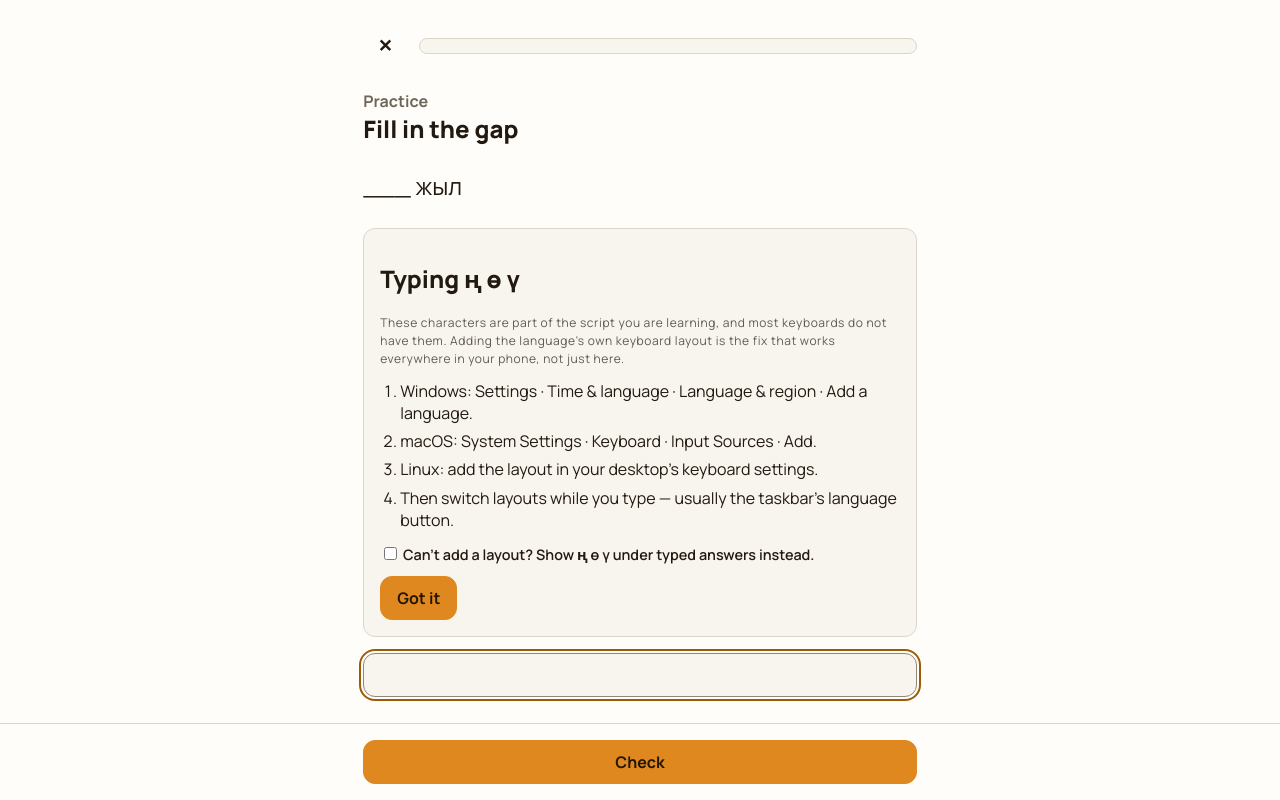
the keyboard setup card › offers the key row as the fallback, and turning it on shows the keys
This screenshot has width=1280, height=800.
Click the checkbox.
click(391, 553)  # box [384,547,397,560]
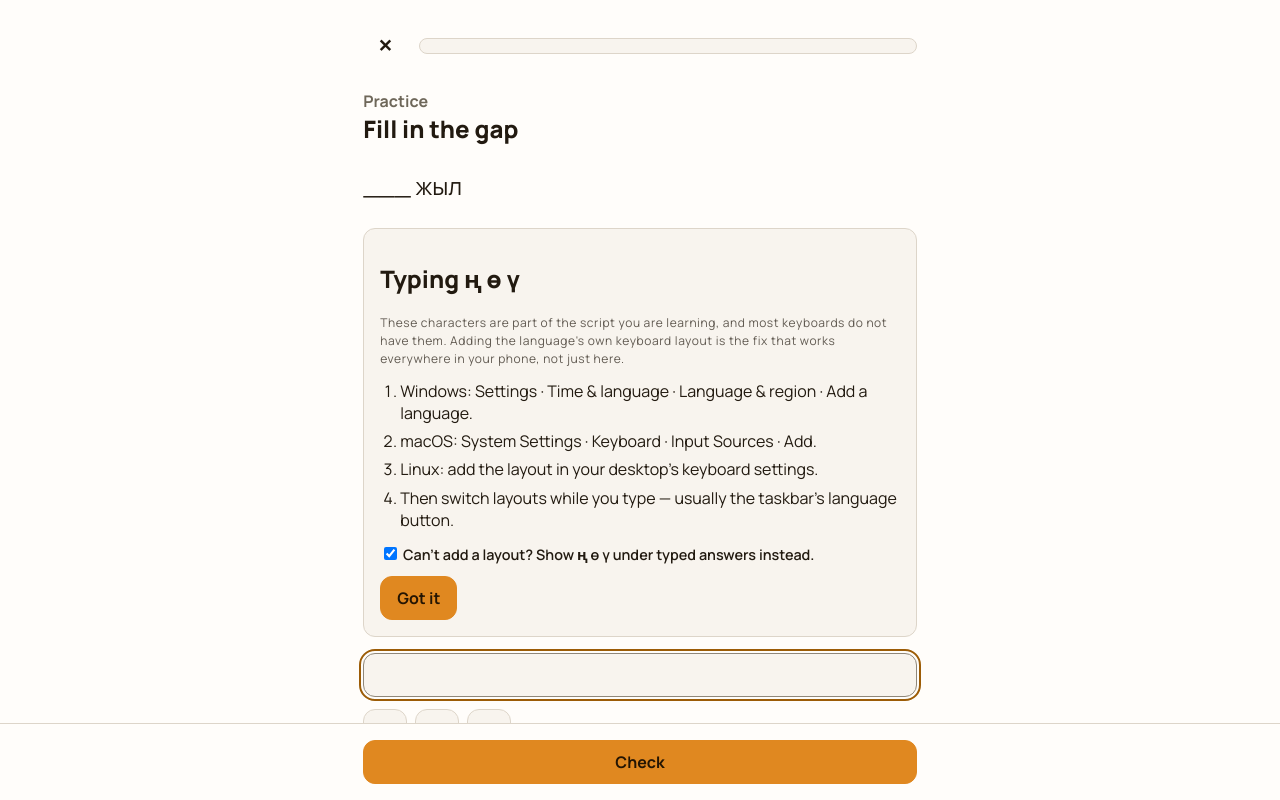
Check: the button "ң" is shown, box [363,709,407,753]
